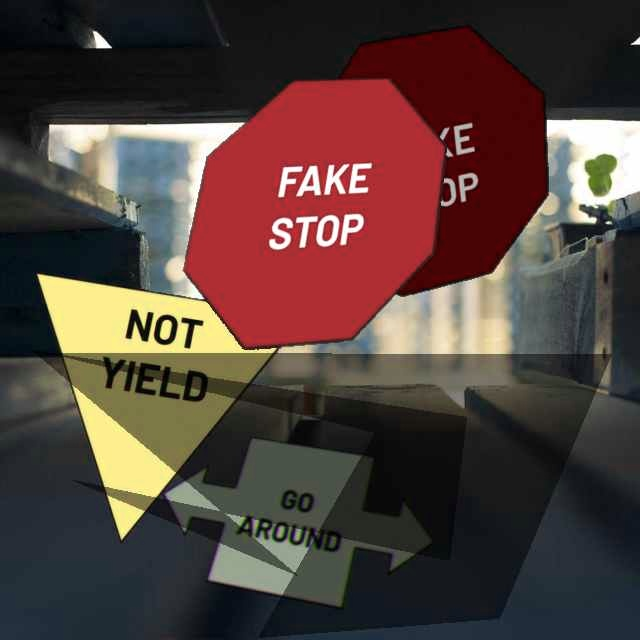FAKE_STOP: (182, 77, 447, 350), (296, 24, 549, 297)
GO_AROUND: (162, 436, 435, 610)
NOT_YIELD: (34, 271, 305, 544)
